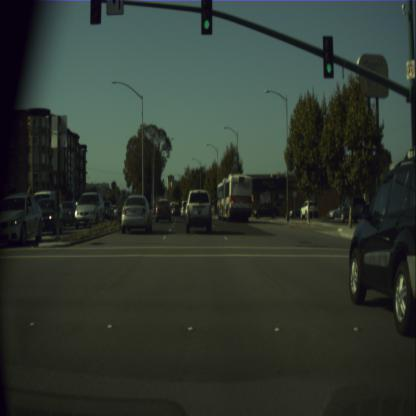Green: (323, 36, 333, 77), (200, 0, 212, 34)
Red: (90, 0, 101, 24)
